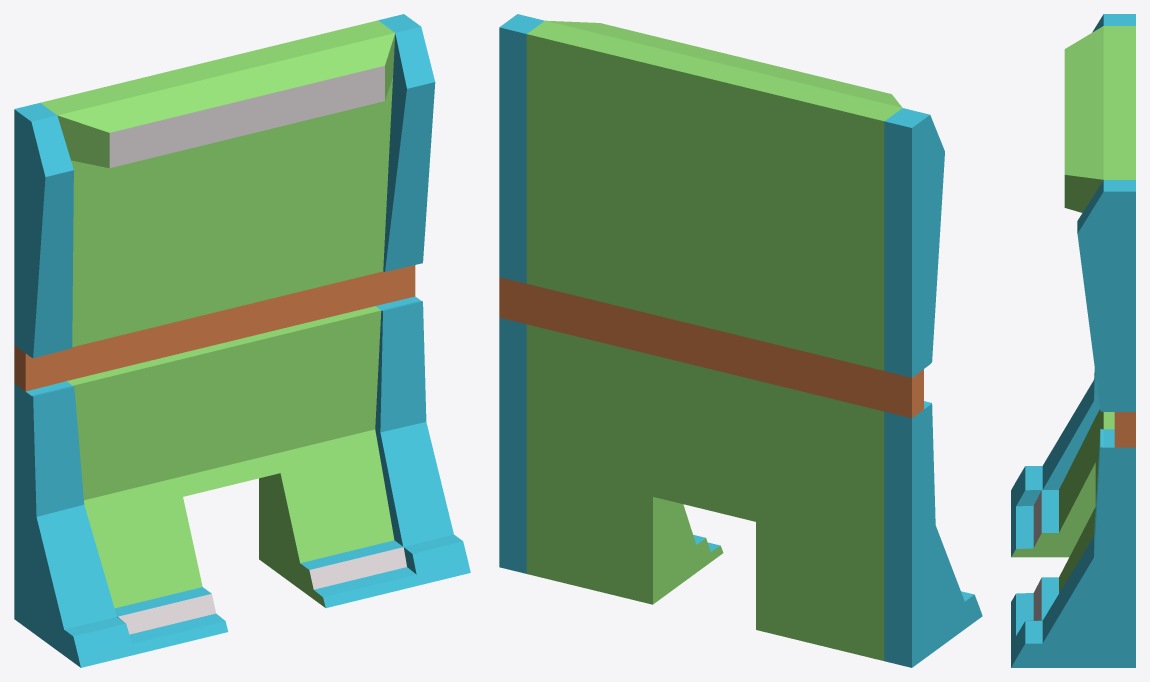
File: WallLHole.fbx
3 renders of one model, left to right at view 1: azimuth 30°, elevation 25°; view 2: azimuth 150°, elevation 25°; view 3: azimuth 270°, elevation 25°, orthographic. The views are drawn at different scales.
Visible parts, largest first — view 1: Wall.002; view 2: Wall.002; view 3: Wall.002.
Part boxes in pixels (x1,y1,x2,y2): Wall.002: [14, 14, 470, 667]; Wall.002: [499, 14, 982, 667]; Wall.002: [1011, 14, 1135, 667].
Size of the model in its own units: 200 by 250 by 59.36.
